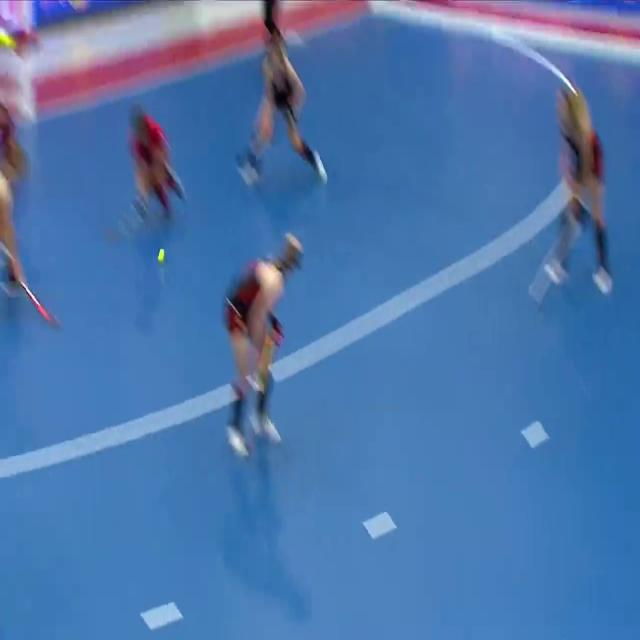ball: (149, 239, 171, 268)
